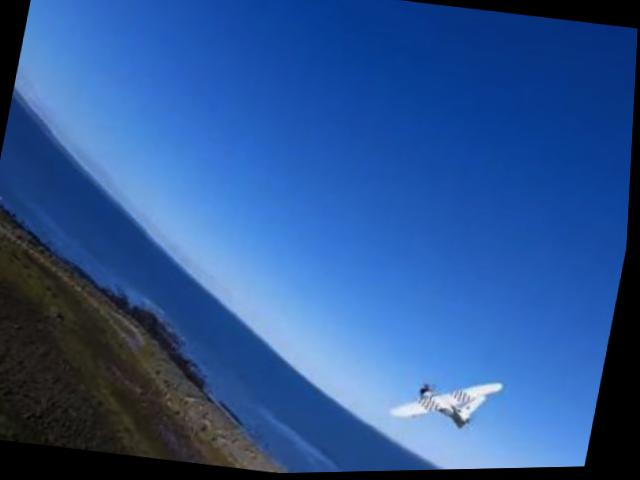uav: (390, 364, 513, 443)
